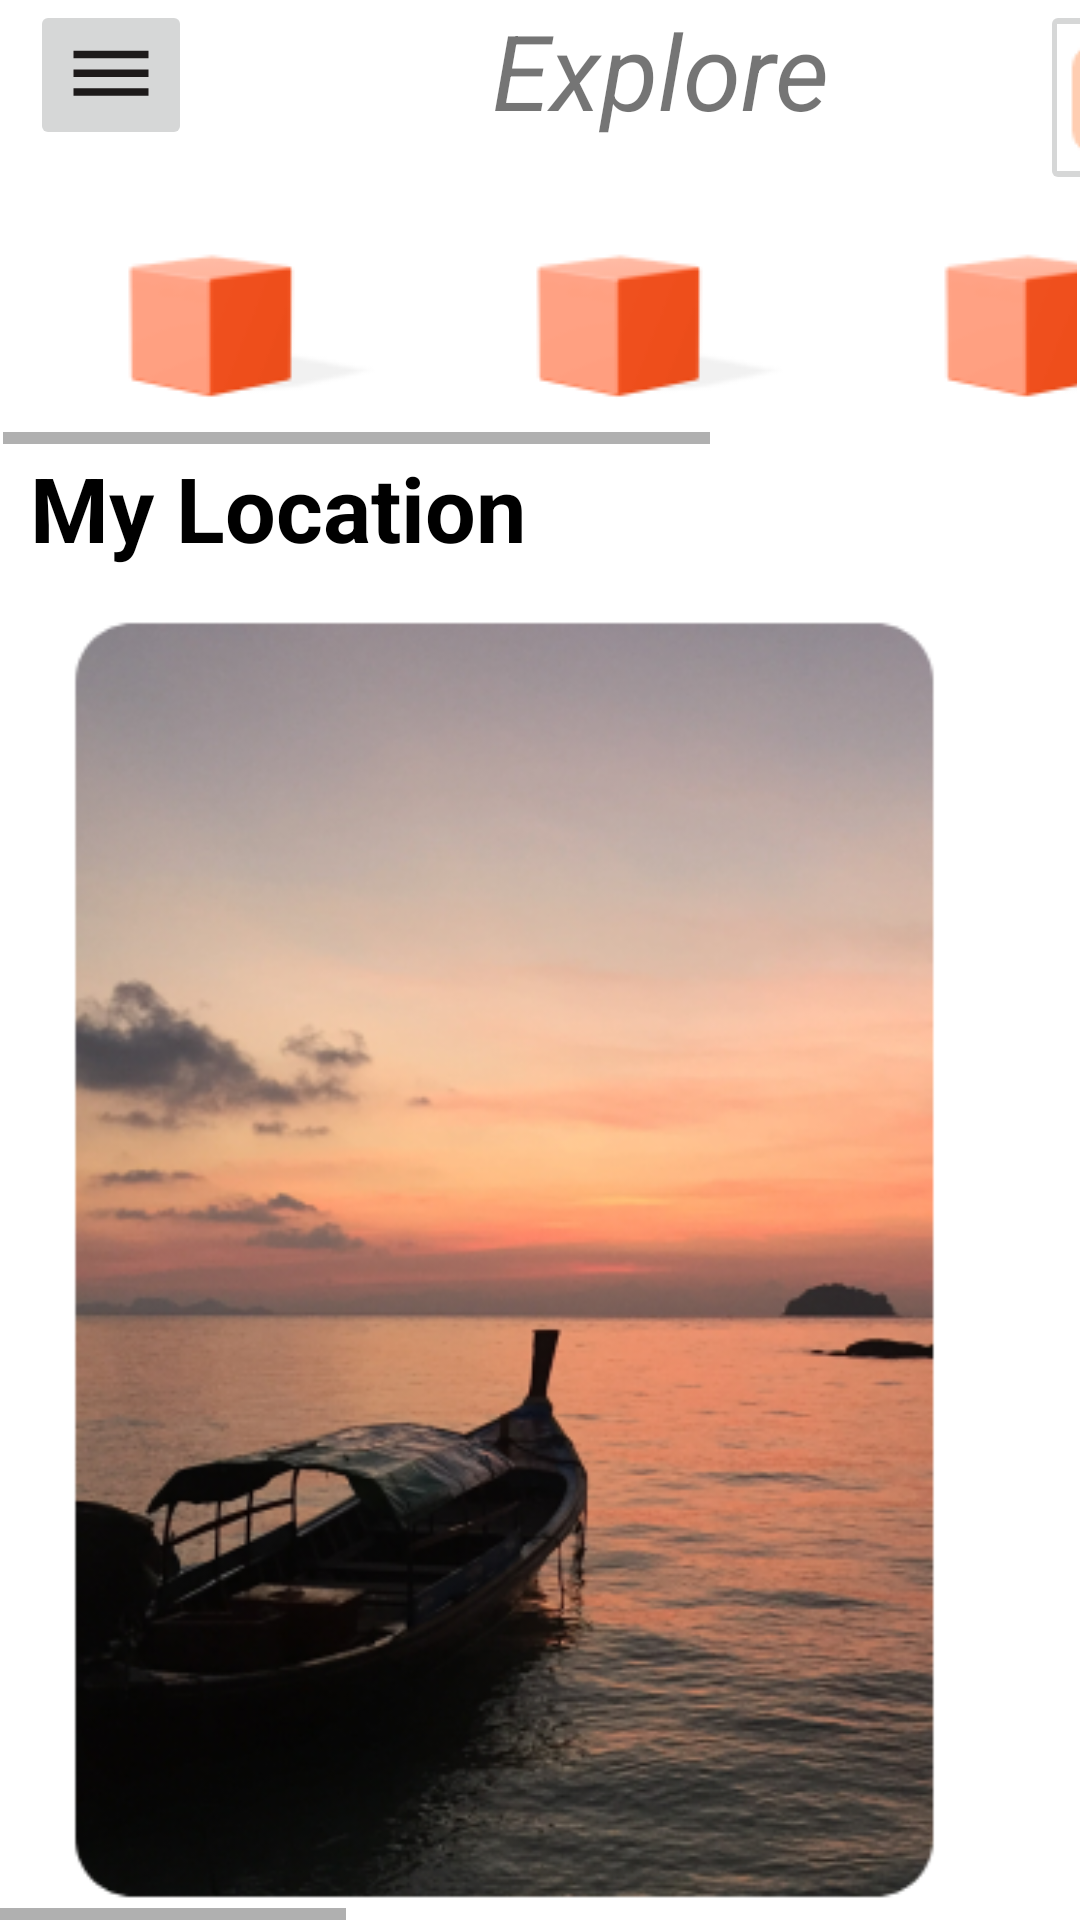

Point at icon controls on the screen. Image size 1080x1920, points as [x,y].
dehaze: [111,75]
